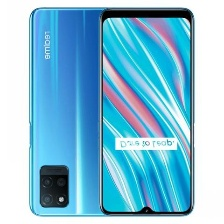phone: (22, 4, 135, 222), (97, 5, 196, 219)
